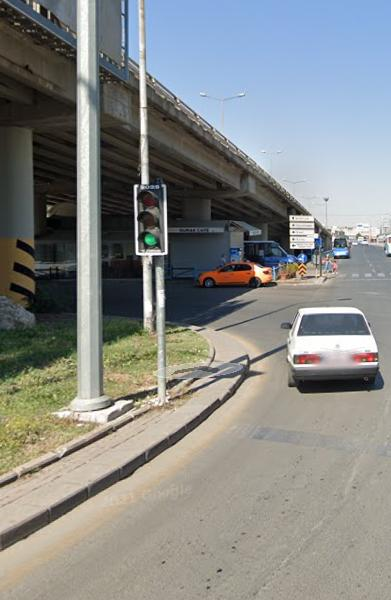greenlight: (135, 185, 167, 250)
